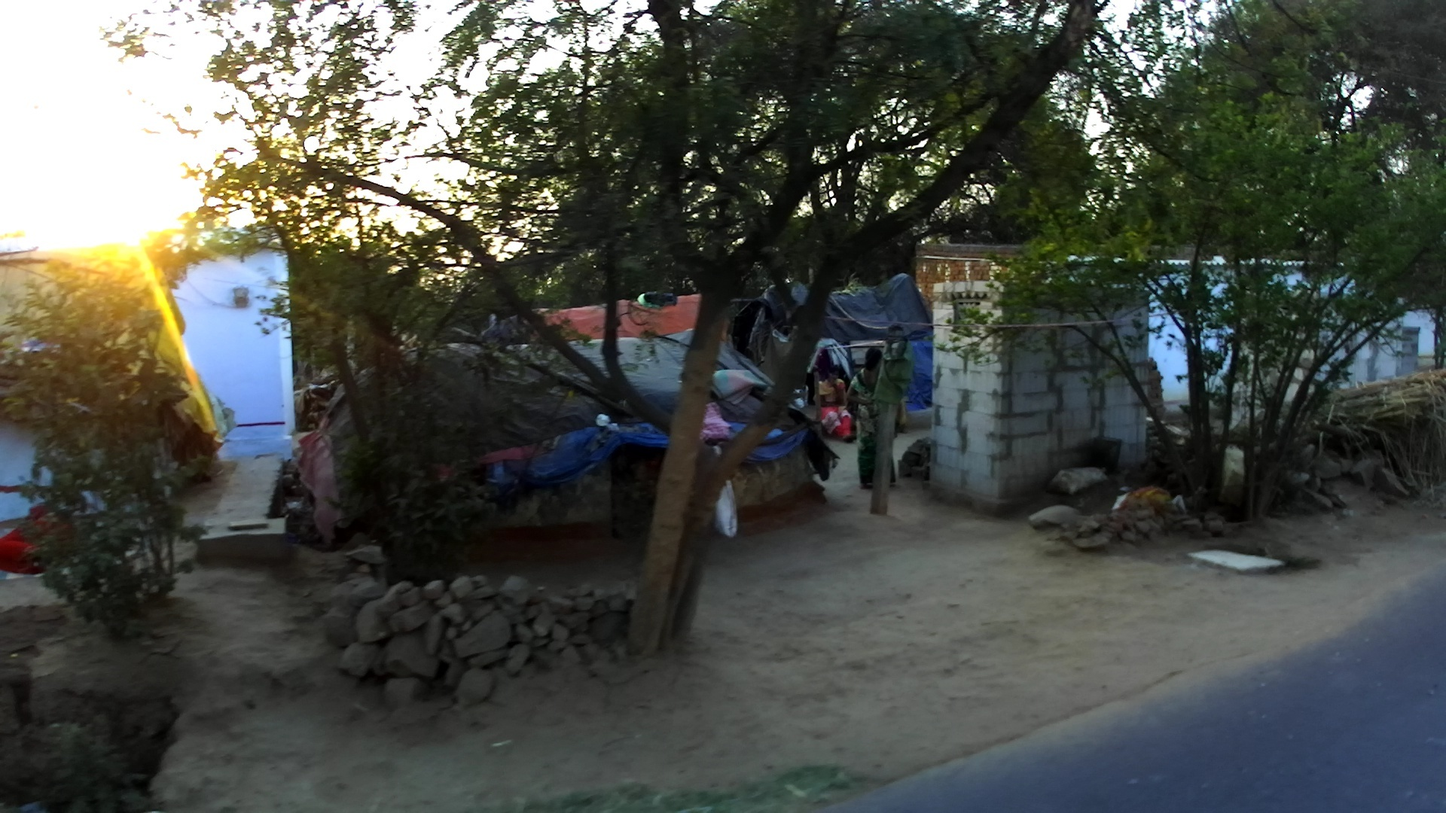person: (845, 349, 901, 489), (817, 365, 858, 444), (894, 396, 908, 436)
